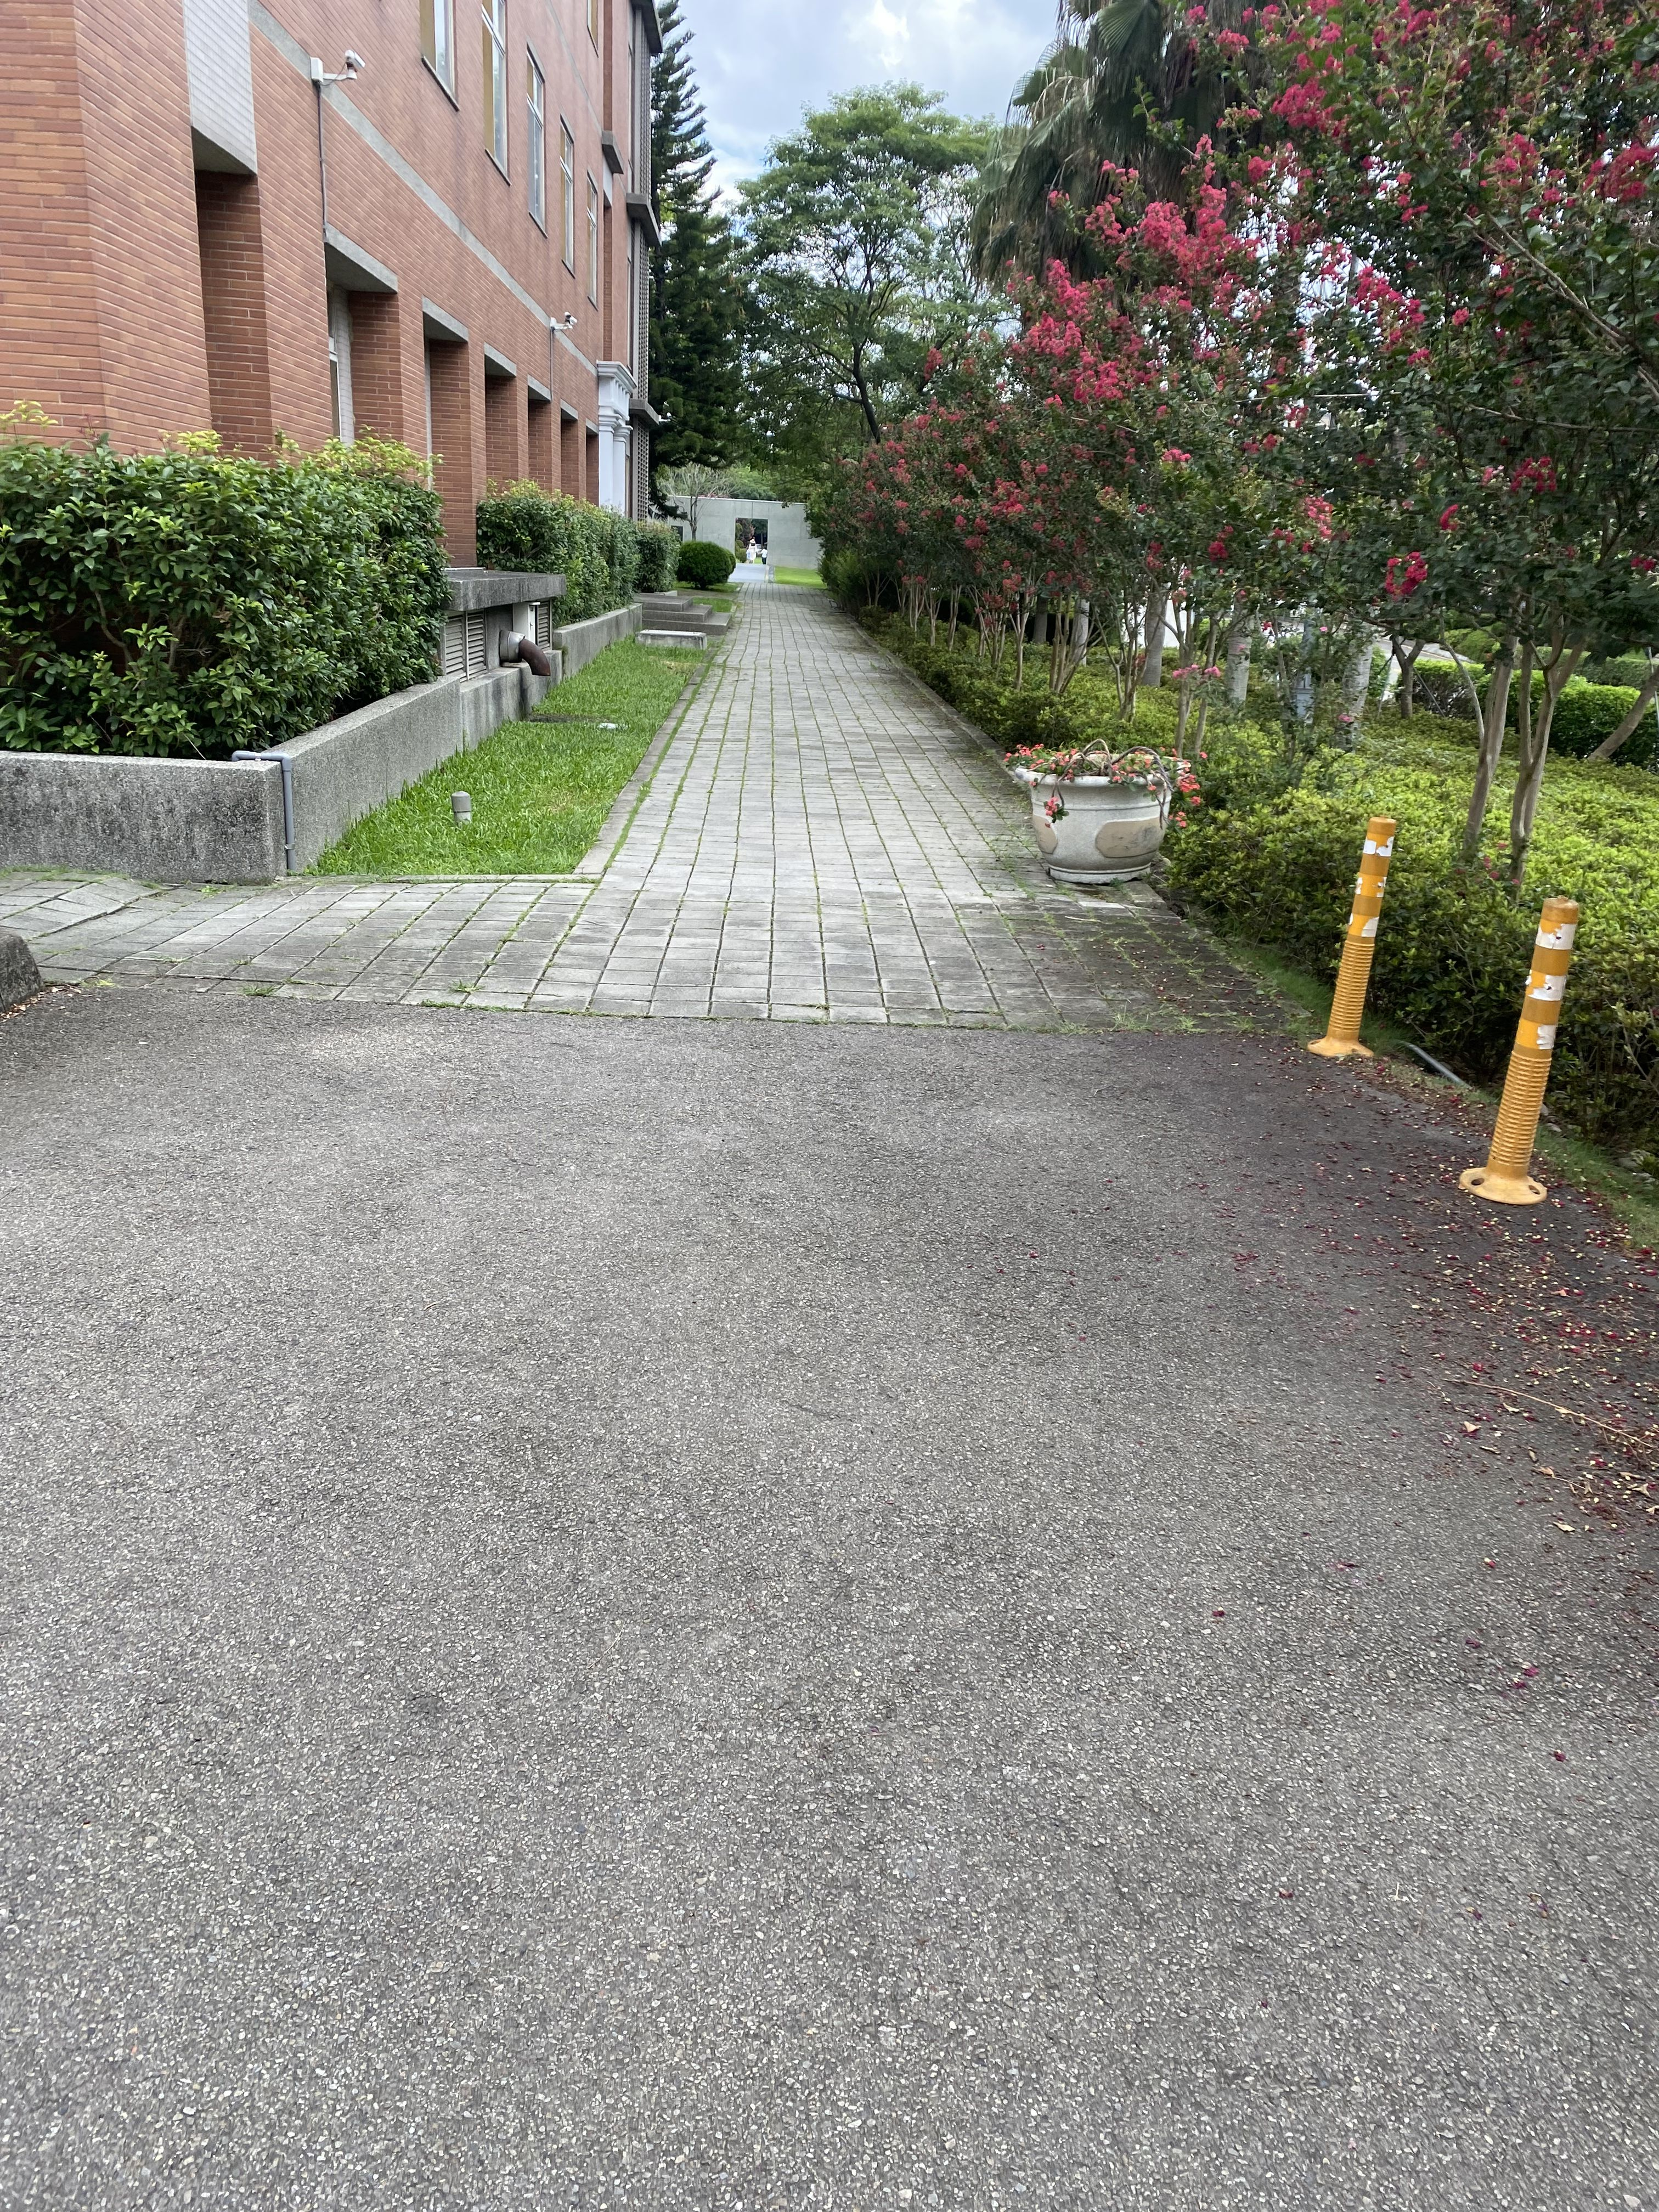0: (340, 996, 1422, 2212)
sidewalk: (589, 535, 1249, 1224)
